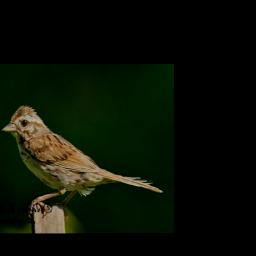Sparrow: (3, 104, 163, 222)
